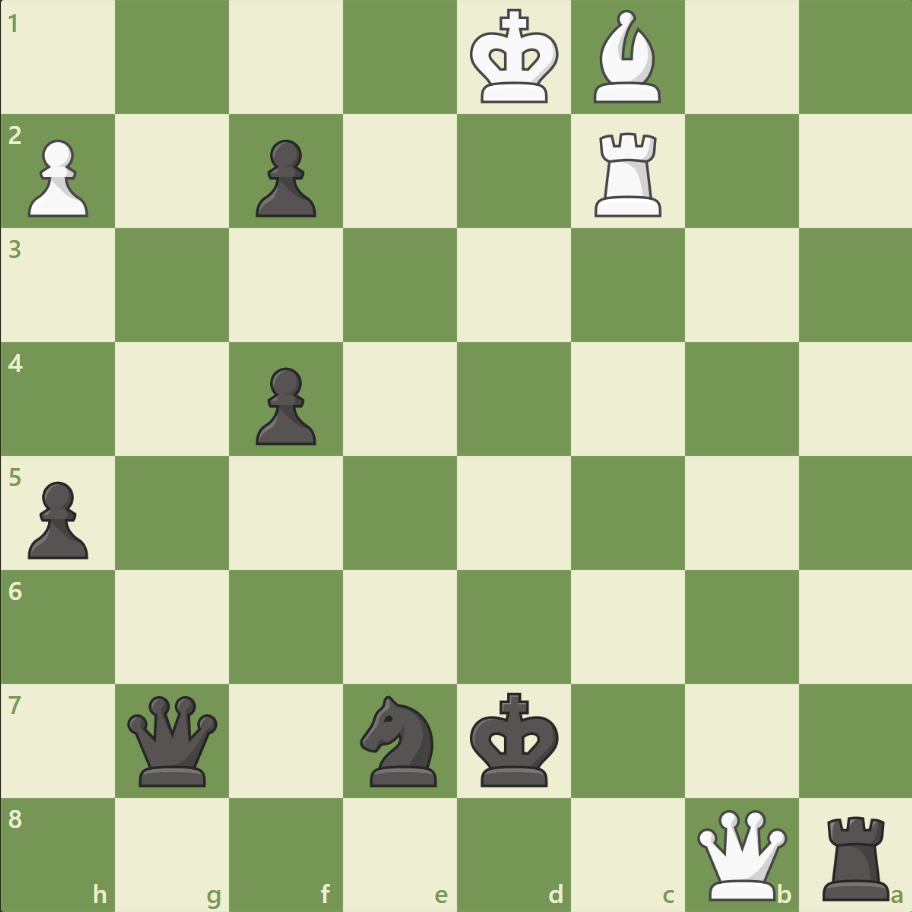B: (585, 6, 669, 109)
K: (465, 4, 565, 112)
P: (20, 132, 95, 223)
Q: (691, 804, 790, 903)
R: (587, 125, 670, 222)
k: (465, 685, 565, 793)
n: (351, 688, 449, 791)
p: (20, 473, 95, 564), (247, 359, 322, 450), (247, 132, 322, 223)
q: (124, 690, 223, 789)
r: (814, 806, 897, 904)
